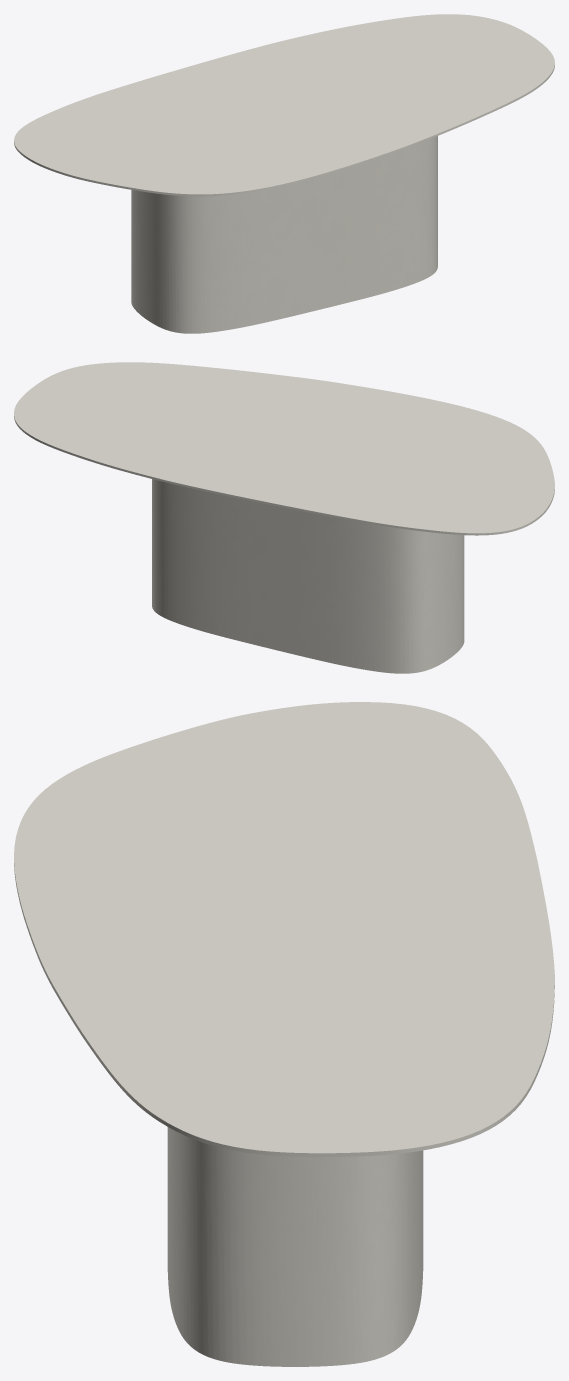
Rendered from pale_leaf2_facet_fixed.glb.
3 renders of one model, top to bottom at view 1: azimuth 30°, elevation 25°; view 2: azimuth 150°, elevation 25°; view 3: azimuth 270°, elevation 25°, orthographic. The views are drawn at different scales.
Visible parts, largest first — view 1: facet_leaf2, fixed; view 2: facet_leaf2, fixed; view 3: facet_leaf2, fixed.
Part boxes in pixels (bbox=[...]): facet_leaf2: bbox=[14, 14, 554, 196]; fixed: bbox=[131, 136, 437, 333]; facet_leaf2: bbox=[14, 362, 554, 535]; fixed: bbox=[152, 479, 464, 673]; facet_leaf2: bbox=[14, 702, 554, 1156]; fixed: bbox=[167, 1127, 423, 1366].
Size of the model in its own units: 7.5 by 2.5 by 3.8.
1 material, 1 textured.
